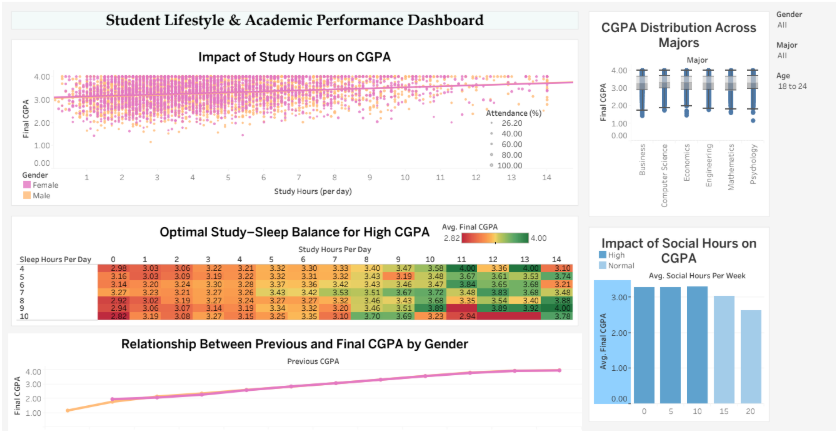

This screenshot's page, from the dashboard's own definition file:
{"tool":"tableau","page":{"name":"Dashboard 1","canvas":[1000,1000],"units":"permille","ordinal":0},"visuals":[{"type":"title","box":[4.8,9.4,691.6,65.8]},{"type":"worksheet","title":"CGPA Distribution Across Majors","mark":"Circle","rows":["Final_CGPA"],"cols":["Major"],"box":[696.4,9.4,228.7,502.9]},{"type":"filter","title":"Impact of Study Hours on CGPA","param":"[federated.0ktxcww083lhgh13sxdta1mjaxdv].[none:Gender:nk]","box":[925.2,9.4,70,71.7]},{"type":"worksheet","title":"Impact of Study Hours on CGPA","mark":"Circle","rows":["Final_CGPA"],"cols":["Study_Hours_Per_Day"],"box":[4.8,75.2,691.6,411.3]},{"type":"filter","title":"Impact of Study Hours on CGPA","param":"[federated.0ktxcww083lhgh13sxdta1mjaxdv].[none:Major:nk]","box":[925.2,81.1,70,71.7]},{"type":"filter","title":"Impact of Study Hours on CGPA","param":"[federated.0ktxcww083lhgh13sxdta1mjaxdv].[none:Age:qk]","box":[925.2,152.8,70,85.8]},{"type":"legend","title":"Impact of Study Hours on CGPA","param":"[federated.0ktxcww083lhgh13sxdta1mjaxdv].[avg:Attendance_Pct:qk]","box":[579.4,243.2,84.5,149.2]},{"type":"legend","title":"Impact of Study Hours on CGPA","param":"[federated.0ktxcww083lhgh13sxdta1mjaxdv].[none:Gender:nk]","box":[23.5,387.8,84.5,75.2]},{"type":"worksheet","title":"Heatmap – Study vs Sleep","mark":"Square","rows":["Sleep Hours (bin)"],"cols":["Study Hours Per Day (bin)"],"box":[4.8,486.5,691.6,280.8]},{"type":"legend","title":"Heatmap – Study vs Sleep","param":"[federated.0ktxcww083lhgh13sxdta1mjaxdv].[avg:Final_CGPA:qk]","box":[526.9,506.5,128.6,57.6]},{"type":"worksheet","title":"Impact of Social Hours on CGPA","mark":"Bar","rows":["Final_CGPA"],"cols":["Social Hours Week (bin)"],"box":[696.4,512.3,228.7,478.3]},{"type":"legend","title":"Impact of Social Hours on CGPA","param":"[federated.0ktxcww083lhgh13sxdta1mjaxdv].[usr:Calculation_0308469919354881:nk]","box":[712.7,577,104.4,81.1]},{"type":"worksheet","title":"Previous vs Final CGPA Trend","mark":"Line","rows":["Final_CGPA"],"cols":["Previous CGPA (bin)"],"box":[4.8,767.3,691.6,223.3]}]}

Visuals, with their boxes on the dashboard's canvas, which has no fixed pixel size, in thousandths of its width and height (x1, y1, x2, y2). These are canvas units, not pixel positions in the 836x432 screenshot, which may show the page scaled, cropped or inside an application window:
title: x1=5, y1=9, x2=696, y2=75
"CGPA Distribution Across Majors" worksheet (Circle marks): x1=696, y1=9, x2=925, y2=512
"Impact of Study Hours on CGPA" filter: x1=925, y1=9, x2=995, y2=81
"Impact of Study Hours on CGPA" worksheet (Circle marks): x1=5, y1=75, x2=696, y2=486
"Impact of Study Hours on CGPA" filter: x1=925, y1=81, x2=995, y2=153
"Impact of Study Hours on CGPA" filter: x1=925, y1=153, x2=995, y2=239
"Impact of Study Hours on CGPA" legend: x1=579, y1=243, x2=664, y2=392
"Impact of Study Hours on CGPA" legend: x1=24, y1=388, x2=108, y2=463
"Heatmap – Study vs Sleep" worksheet (Square marks): x1=5, y1=486, x2=696, y2=767
"Heatmap – Study vs Sleep" legend: x1=527, y1=506, x2=656, y2=564
"Impact of Social Hours on CGPA" worksheet (Bar marks): x1=696, y1=512, x2=925, y2=991
"Impact of Social Hours on CGPA" legend: x1=713, y1=577, x2=817, y2=658
"Previous vs Final CGPA Trend" worksheet (Line marks): x1=5, y1=767, x2=696, y2=991
